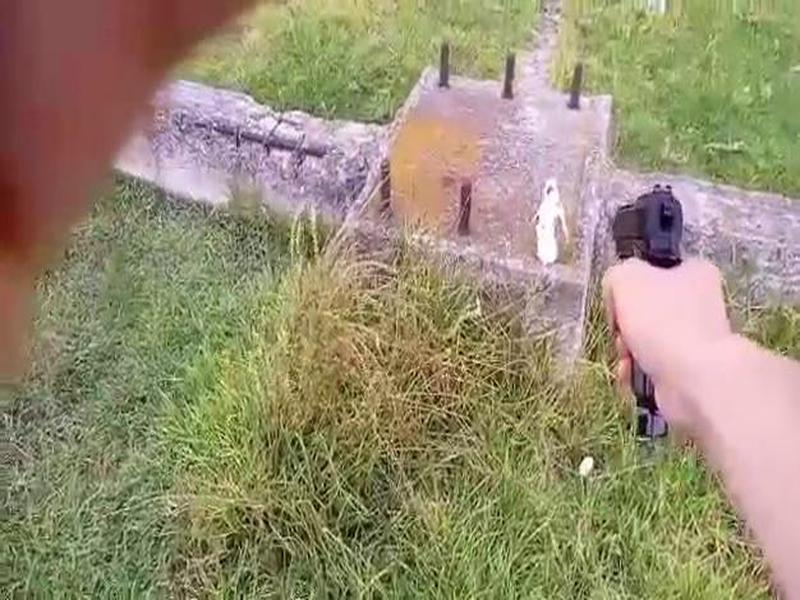Pistola: (592, 180, 717, 389)
